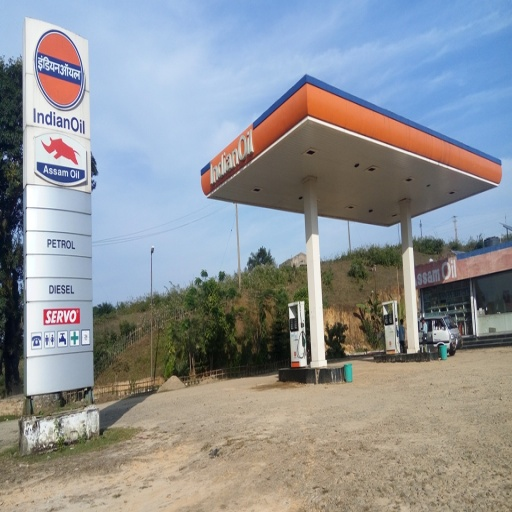roof: (199, 74, 501, 234)
